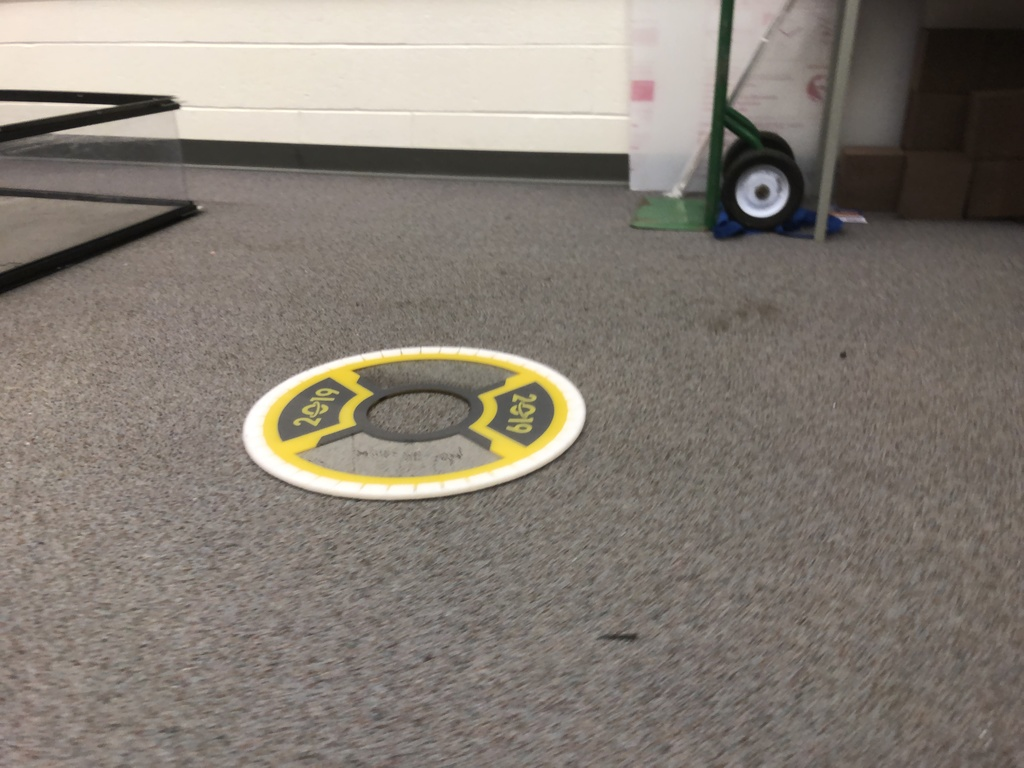hatch_panel: (236, 338, 595, 497)
